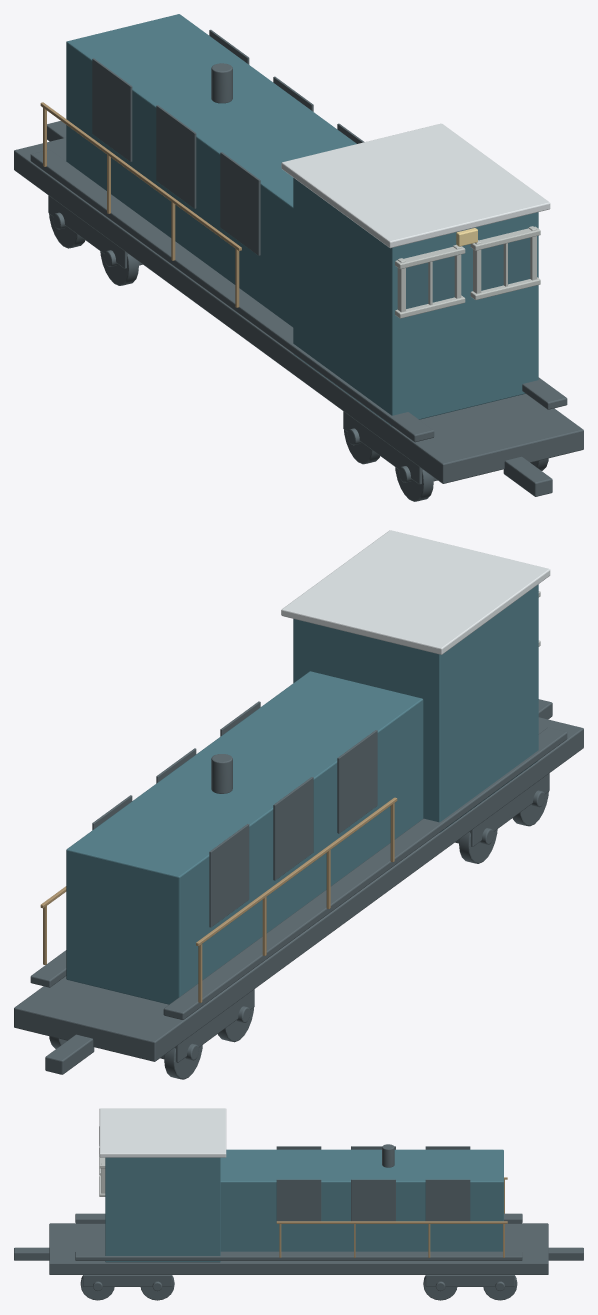
Rendered from rail_locomotive.glb.
3 views of the same model, one above another, from view 1: azimuth 30°, elevation 25°; view 2: azimuth 150°, elevation 25°; view 3: azimuth 270°, elevation 25° (orthographic). The views are drawn at different scales.
Parts seen in each view (by area): view 1: rail_locomotive; view 2: rail_locomotive; view 3: rail_locomotive.
Boxes of the visible parts, box(x1,y1,x2,y2) form: rail_locomotive: box(14, 14, 583, 501); rail_locomotive: box(14, 530, 583, 1079); rail_locomotive: box(14, 1108, 583, 1300).
Size of the model in its own units: 2.9 by 4.5 by 15.3.
